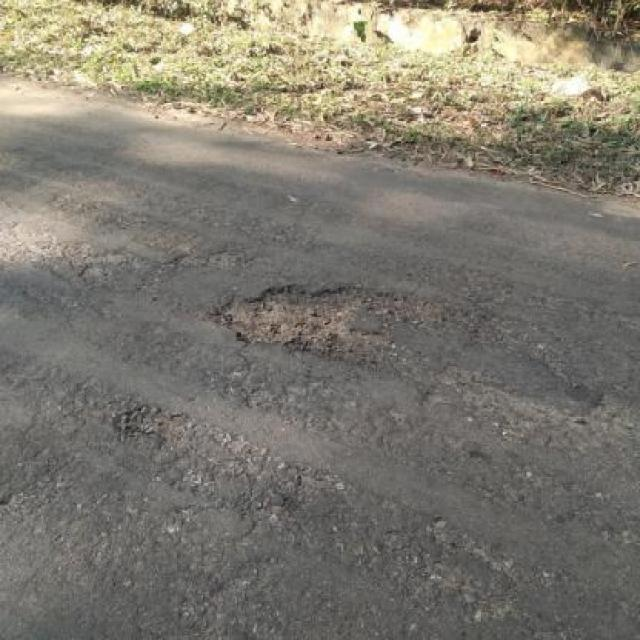Pothole: (206, 280, 469, 366), (111, 403, 188, 451)
